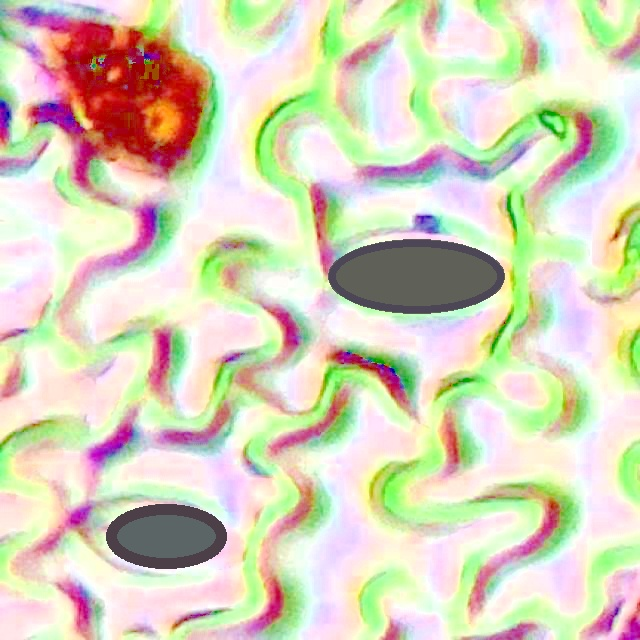close: (106, 503, 226, 569)
open: (328, 239, 504, 312)
